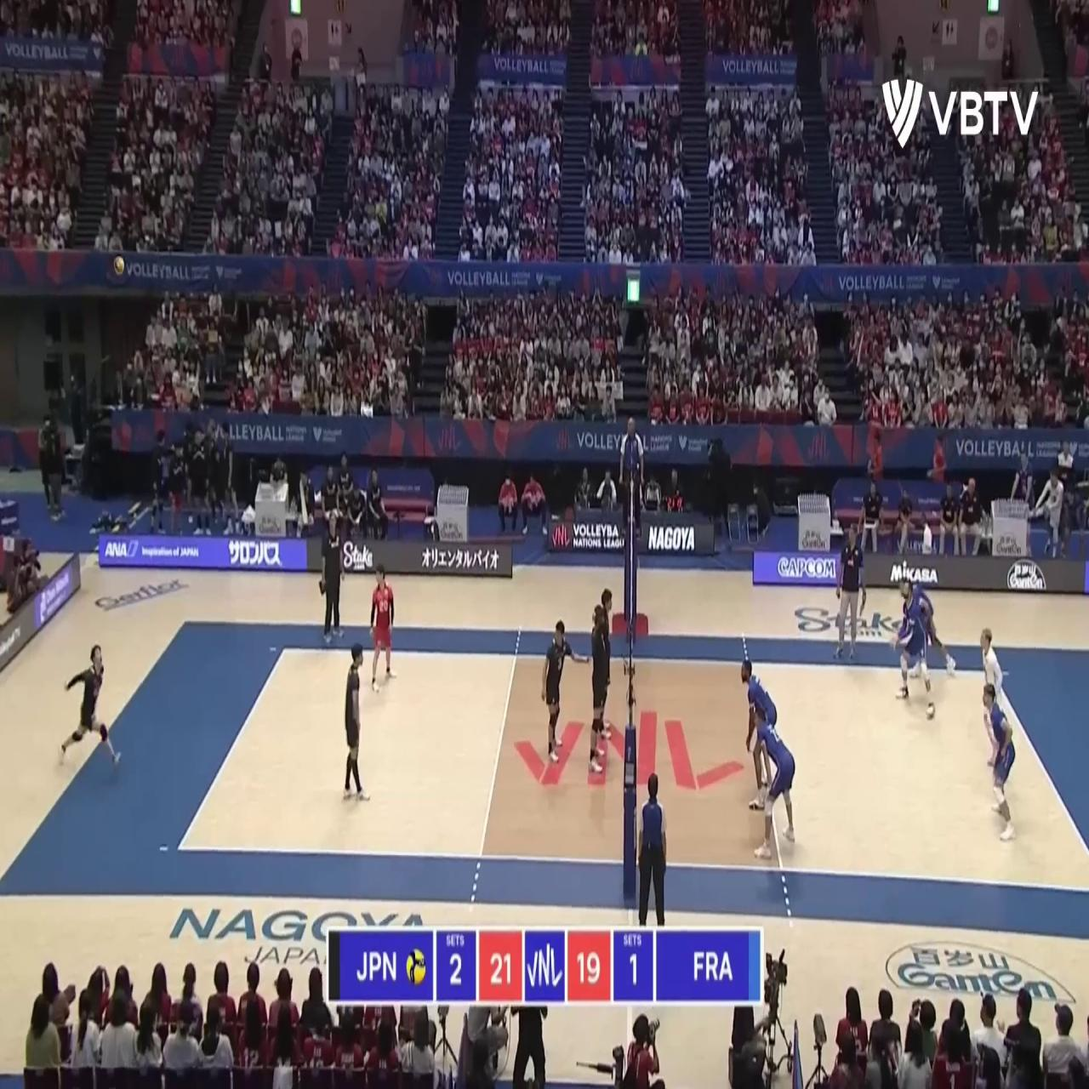ball: (114, 256, 125, 276)
